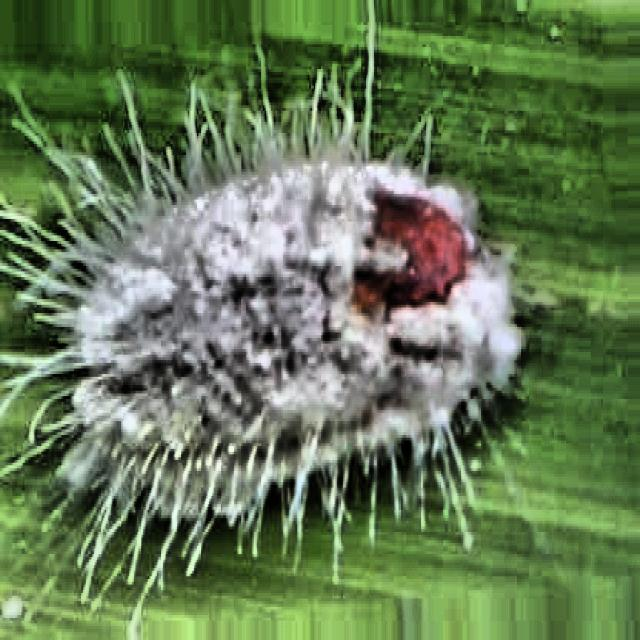Mealy-bug: (7, 27, 552, 637)
